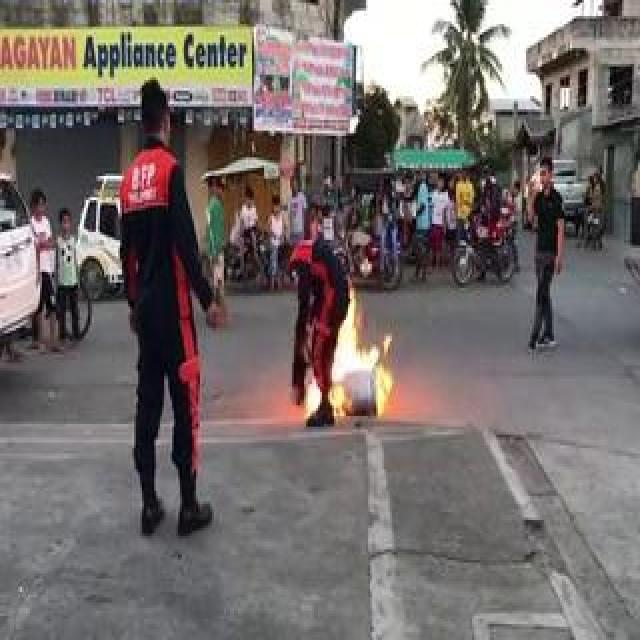Smoke: (304, 316, 392, 390)
